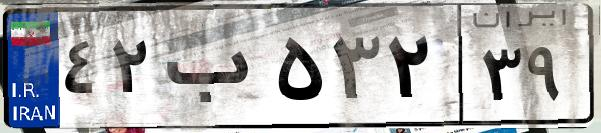2: (385, 28, 445, 110), (110, 28, 158, 98)
3: (330, 28, 385, 110), (475, 38, 525, 113)
4: (57, 26, 110, 100)
5: (270, 28, 330, 110)
9: (525, 38, 570, 115)
ب: (158, 20, 270, 120)
